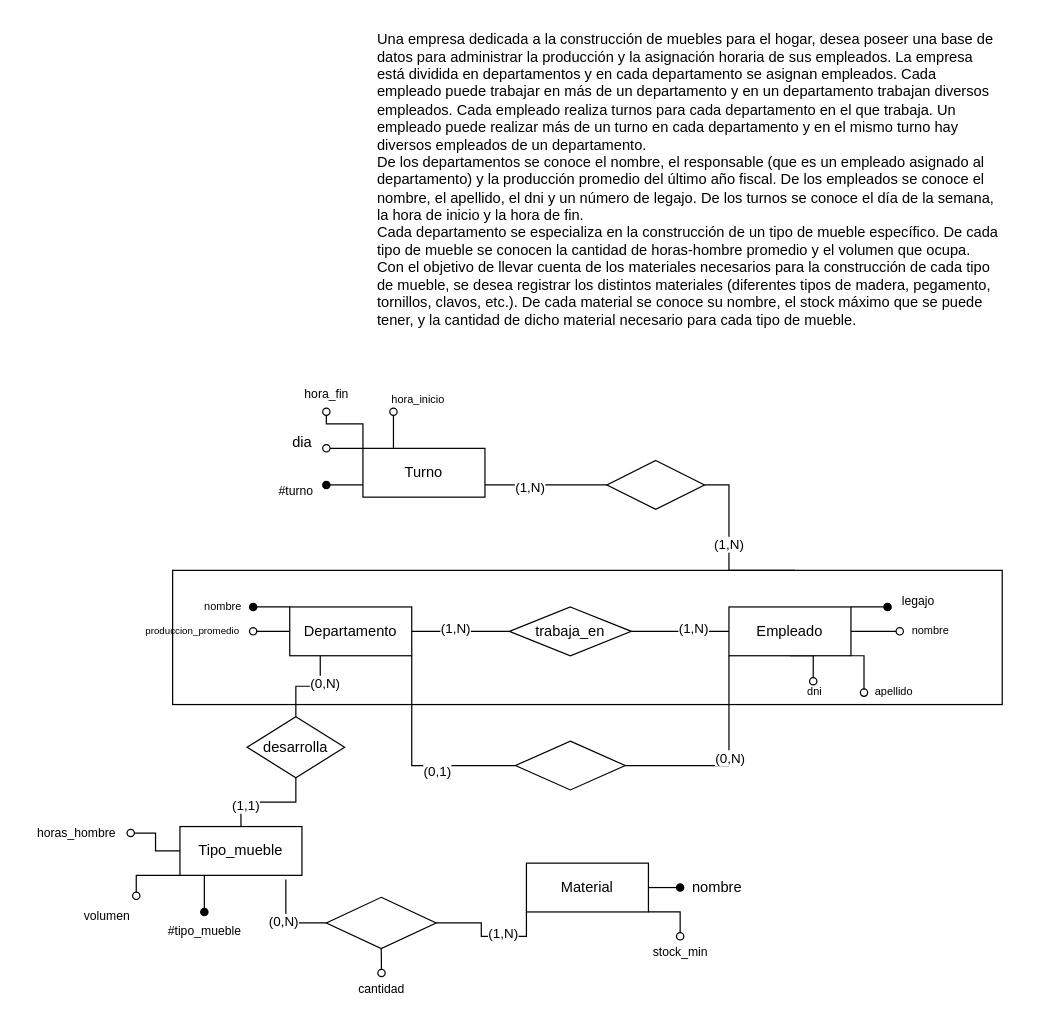
The diagram is 1042 pixels wide and 1027 high, and some of its shapes have lost their labels. Each missing label, with the centre of its shape:
"esta_a_cargo" goes at point 569,765.
"formado_por" goes at point 380,922.
"realiza" goes at point 655,484.
